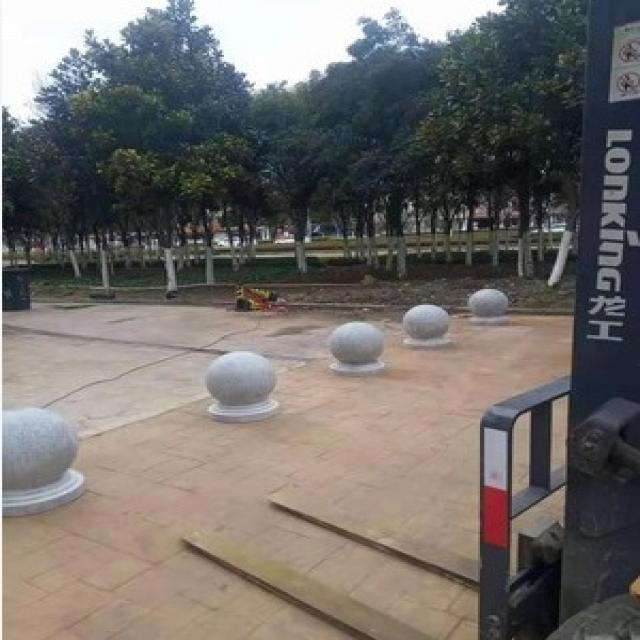spherical_roadblock: (2, 406, 83, 514), (200, 349, 278, 420), (326, 317, 384, 374), (401, 301, 448, 346), (465, 286, 506, 324)
